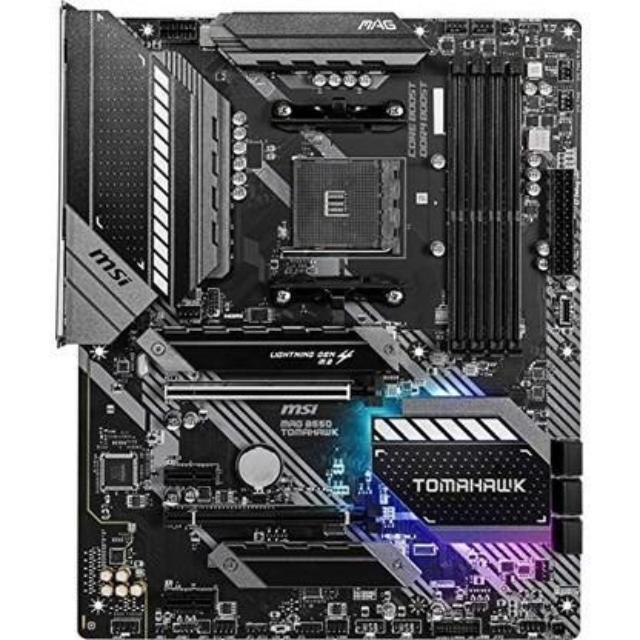Mainboard: (37, 0, 595, 640)
